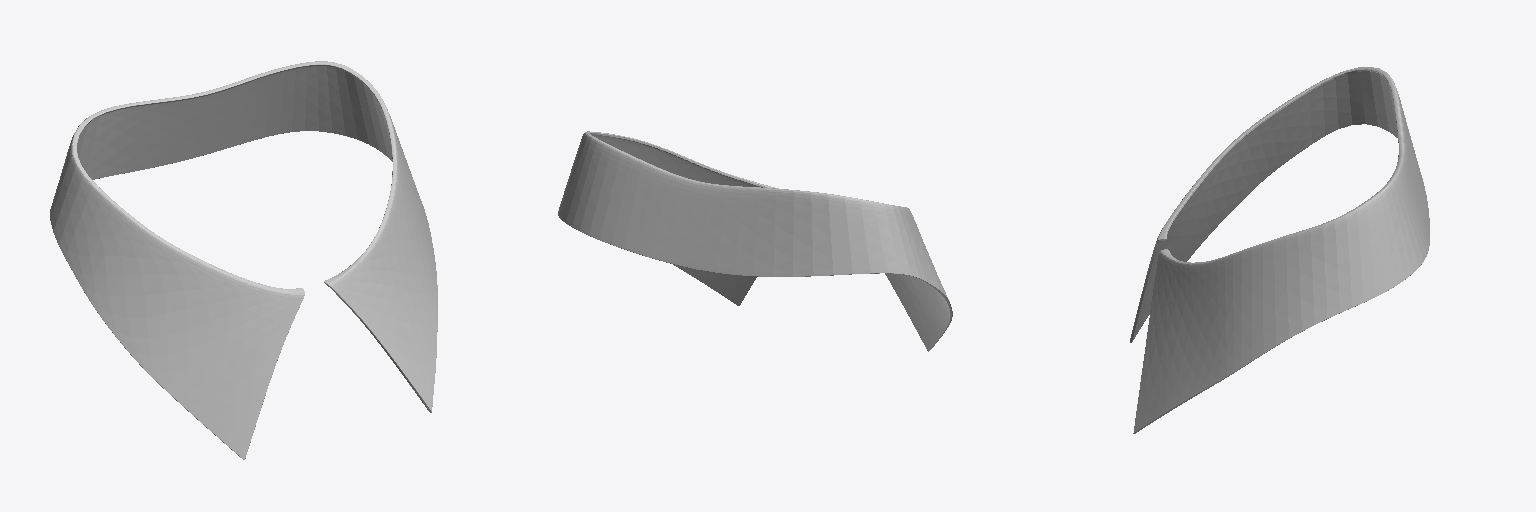
File: button_down_(kera).obj
3 views of the same model, side by side, from view 1: azimuth 30°, elevation 25°; view 2: azimuth 150°, elevation 25°; view 3: azimuth 270°, elevation 25° (orthographic).
Visible parts, largest first — view 1: Object035; view 2: Object035; view 3: Object035.
Boxes of the visible parts, box(x1,y1,x2,y2) form: Object035: box(50, 61, 437, 459); Object035: box(558, 131, 952, 351); Object035: box(1130, 67, 1429, 433).
Size of the model in its own units: 177 by 125 by 132.